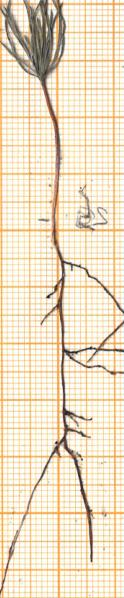flower: (0, 0, 78, 85)
root: (0, 223, 124, 598)
stem: (36, 85, 69, 221)
